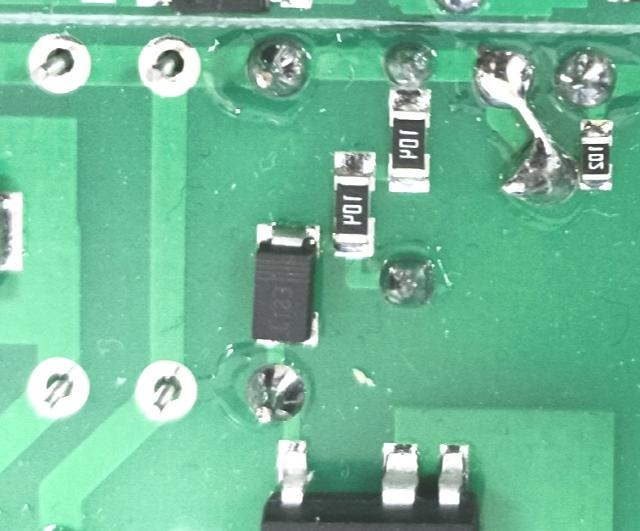chip-resistor: (387, 86, 432, 194), (332, 149, 376, 258), (578, 117, 614, 191)
diode: (251, 221, 322, 347)
ic: (259, 434, 481, 531)
